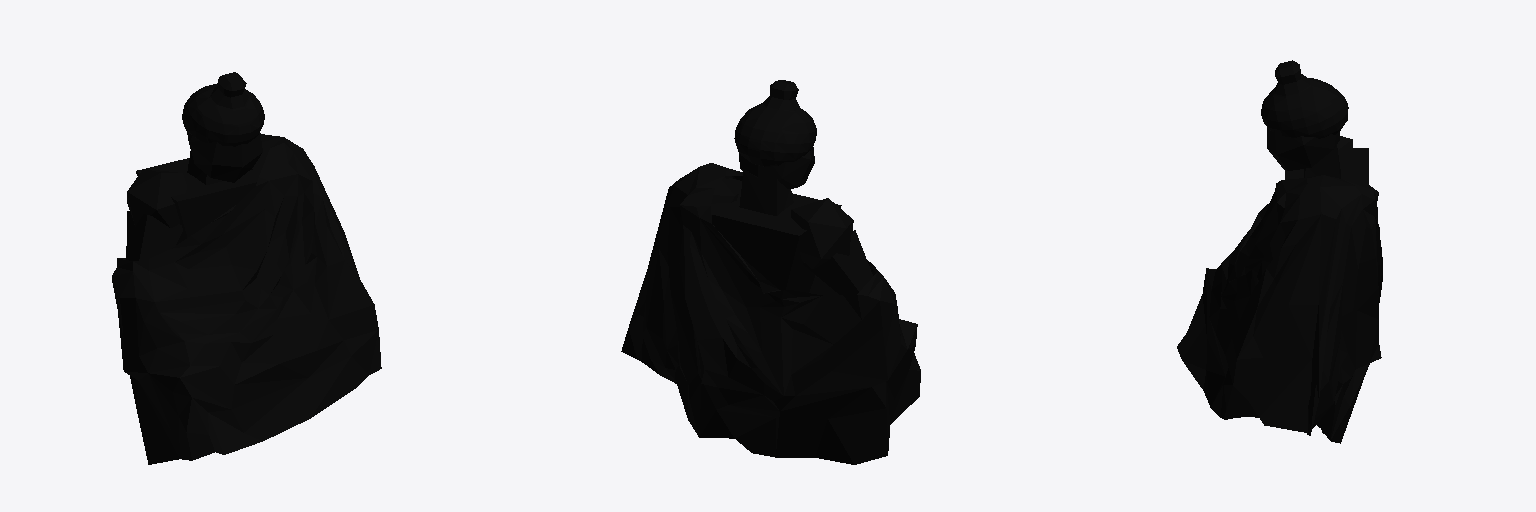
File: Statue5.obj
The picture shows the model from 3 angles: view 1: azimuth 30°, elevation 25°; view 2: azimuth 150°, elevation 25°; view 3: azimuth 270°, elevation 25°; orthographic projection.
Visible parts, largest first — view 1: Statue5_Cube.025; view 2: Statue5_Cube.025; view 3: Statue5_Cube.025.
Part boxes in pixels (bbox=[...]): Statue5_Cube.025: bbox=[112, 72, 381, 464]; Statue5_Cube.025: bbox=[621, 80, 920, 464]; Statue5_Cube.025: bbox=[1177, 60, 1382, 443].
Size of the model in its own units: 1.02 by 1.35 by 0.6936.